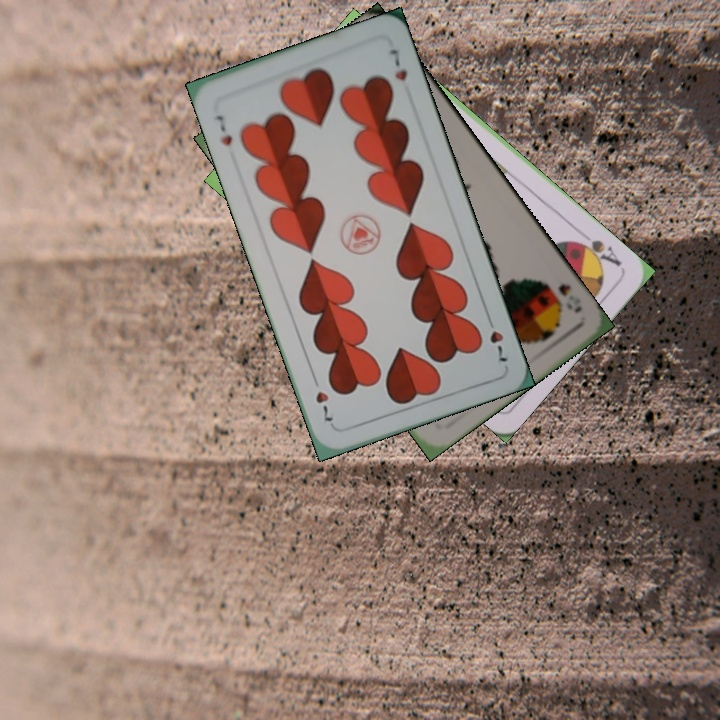H7: (482, 310, 511, 365), (212, 111, 235, 148)
SA: (570, 227, 625, 270)
SO: (554, 279, 585, 316)
